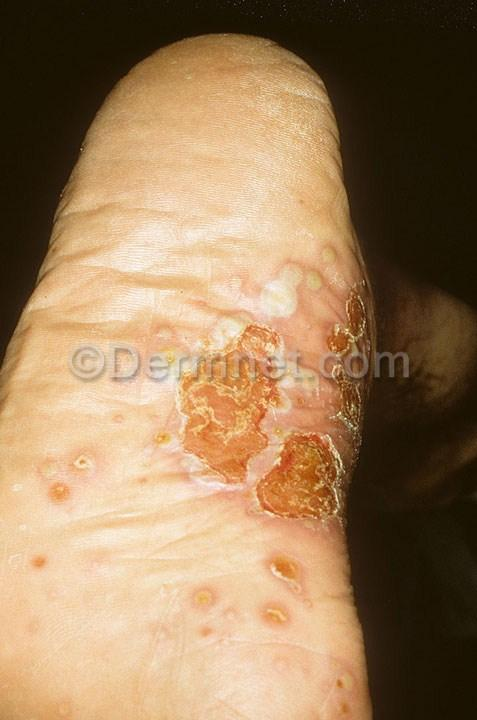Eczema: (183, 389, 354, 561), (160, 568, 320, 706), (18, 403, 155, 559), (188, 271, 288, 354), (297, 265, 385, 345)
